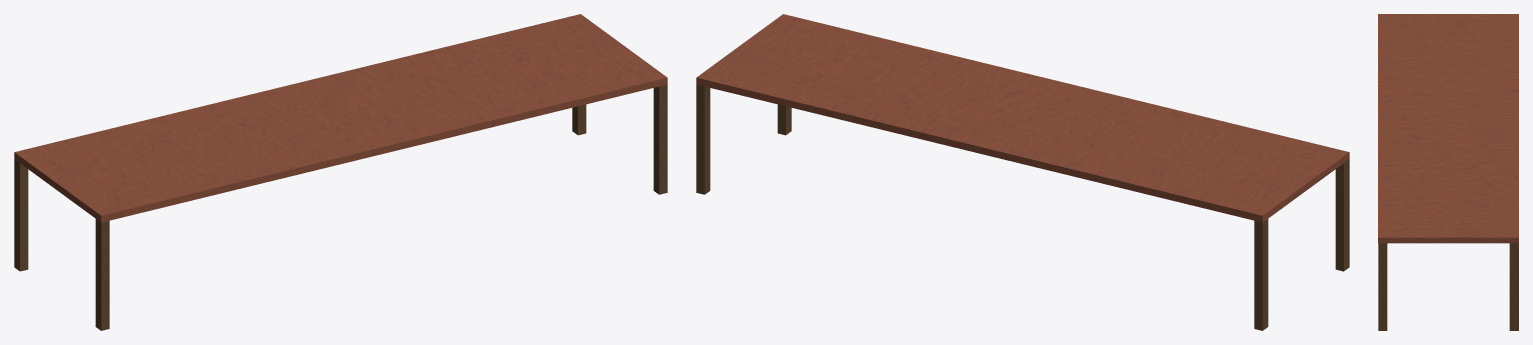
The model's file is Stół_jadalniany.fbx.
3 views of the same model, side by side, from view 1: azimuth 30°, elevation 25°; view 2: azimuth 150°, elevation 25°; view 3: azimuth 270°, elevation 25° (orthographic). The views are drawn at different scales.
Parts seen in each view (by area): view 1: Stół, Nogi 1, Nogi 2; view 2: Stół, Nogi 2, Nogi 1; view 3: Stół, Nogi 1, Nogi 2.
Boxes of the visible parts, x1,y1,x2,y2 form: Stół: (14, 14, 667, 222); Nogi 1: (95, 84, 667, 330); Nogi 2: (14, 104, 586, 271); Stół: (696, 14, 1349, 222); Nogi 2: (696, 84, 1268, 330); Nogi 1: (777, 104, 1349, 271); Stół: (1378, 14, 1518, 243); Nogi 1: (1378, 243, 1387, 330); Nogi 2: (1509, 243, 1518, 330).
Size of the model in its own units: 2189 by 425 by 582.
Materials: 2 (2 with a texture image).
